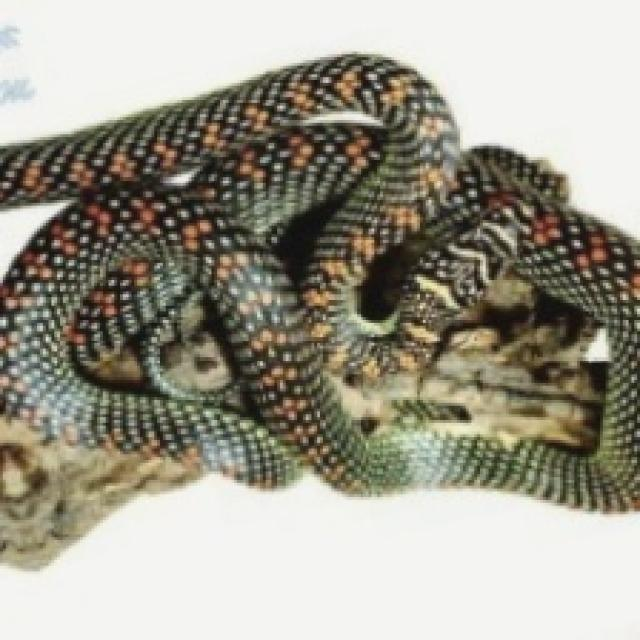paradise tree snake: (0, 54, 637, 560), (0, 54, 637, 509)
